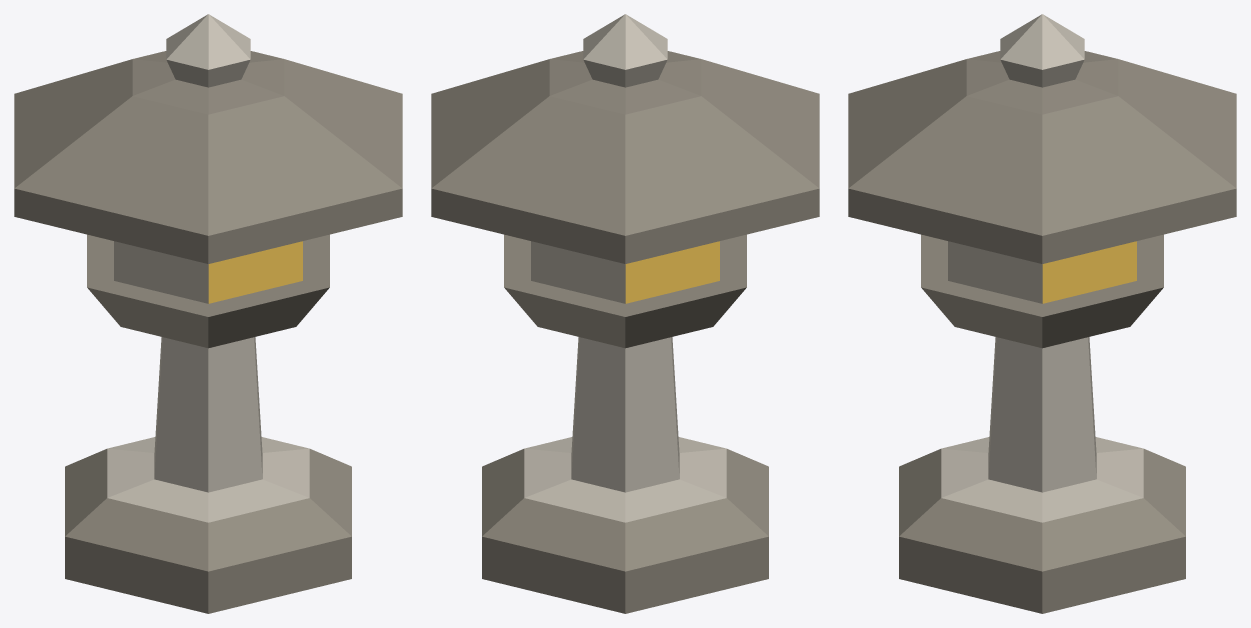
Rendered from lantern.glb.
3 renders of one model, left to right at view 1: azimuth 30°, elevation 25°; view 2: azimuth 150°, elevation 25°; view 3: azimuth 270°, elevation 25°, orthographic.
Parts seen in each view (by area): view 1: lantern; view 2: lantern; view 3: lantern.
Boxes of the visible parts, bbox=[...] form: lantern: bbox=[14, 14, 402, 613]; lantern: bbox=[431, 14, 819, 613]; lantern: bbox=[848, 14, 1236, 613].
Bounding box in the file's own units: 0.23 × 0.3 × 0.1992.
